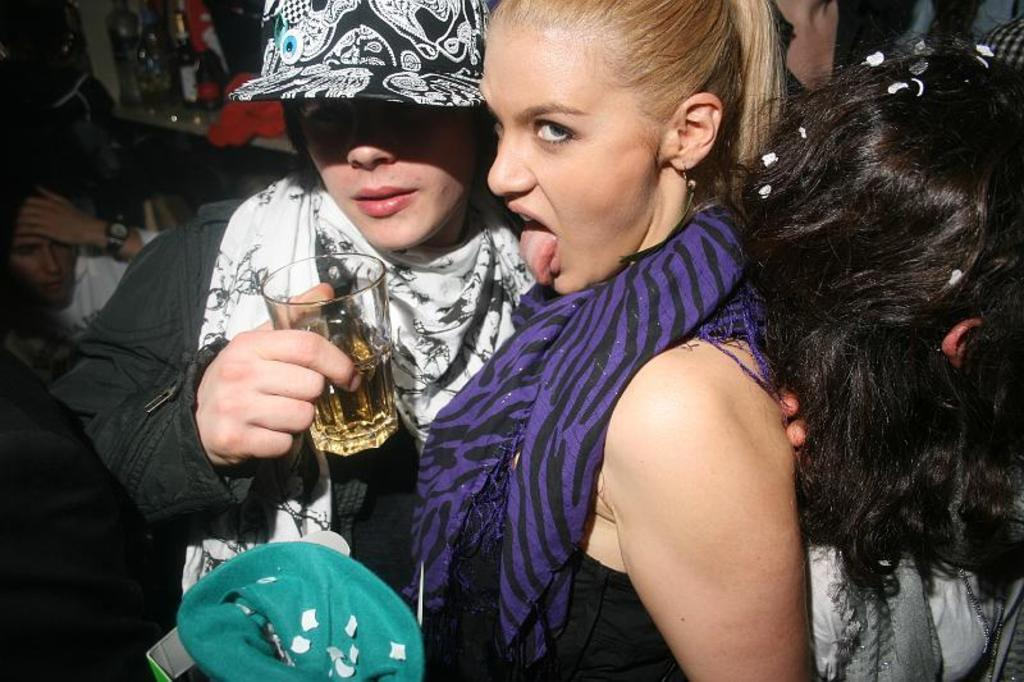Hat: (227, 0, 491, 107)
